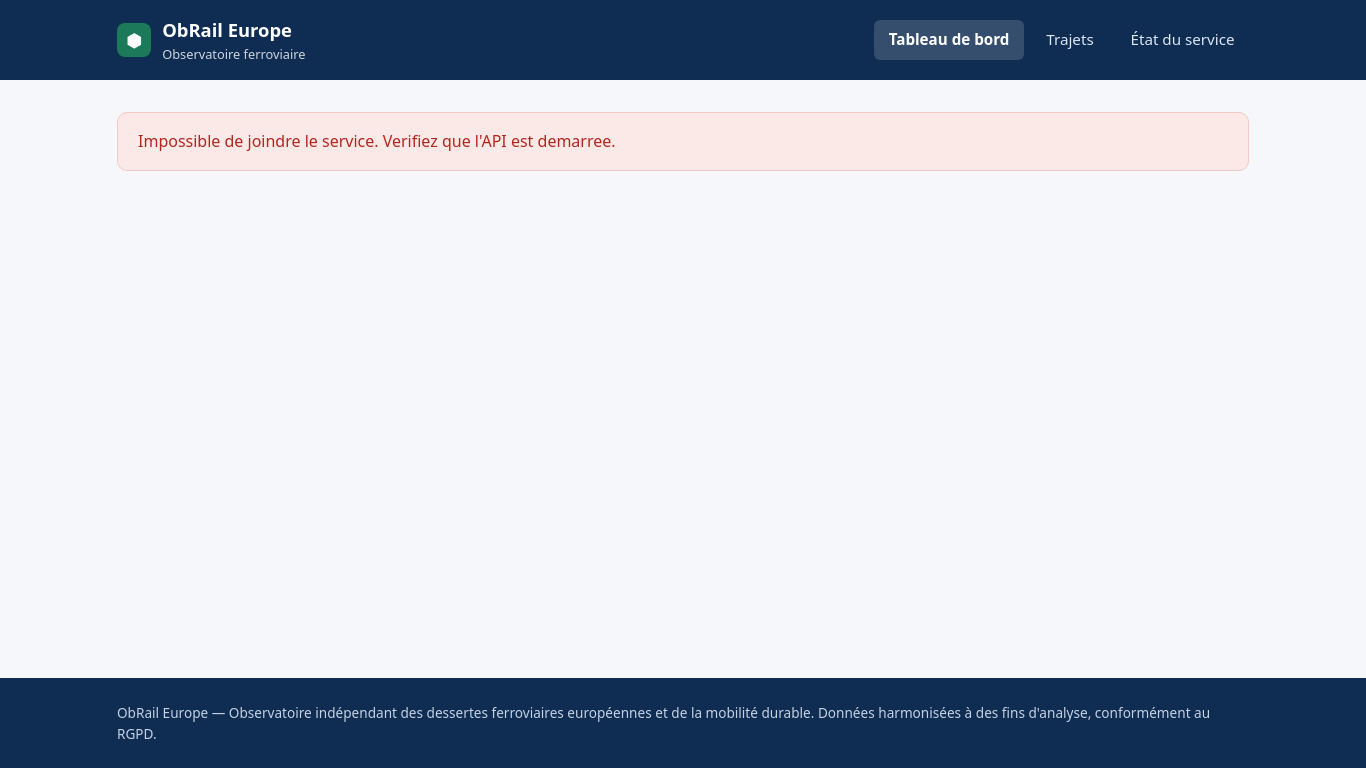
Test: Navigation et pages principales › permet de naviguer vers la page Trajets
The image size is (1366, 768).
# Clic sur le lien de navigation "Trajets".
Click the link "Trajets".
click(1070, 39)  # box left=1046, top=29, right=1093, bottom=49
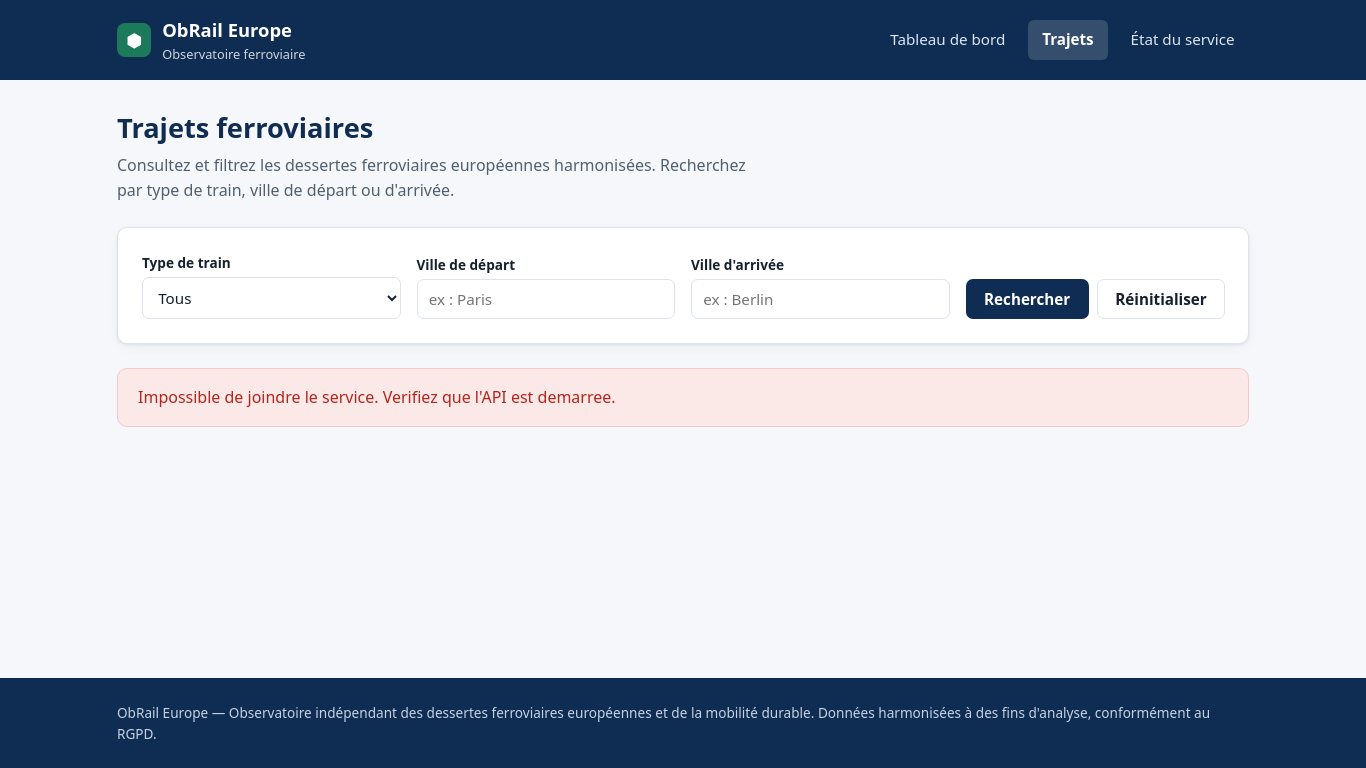
Now the heading "Trajets ferroviaires" is shown, box left=117, top=109, right=373, bottom=146
Now the dropdown with id "train_type" is shown, box left=142, top=277, right=401, bottom=319
Now the field with id "departure_city" is shown, box left=417, top=279, right=676, bottom=319
